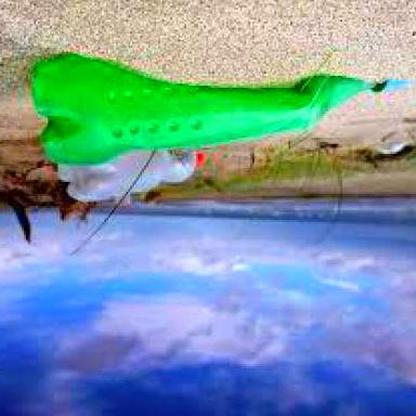plastic bottle: (28, 51, 404, 162), (55, 146, 204, 199)
